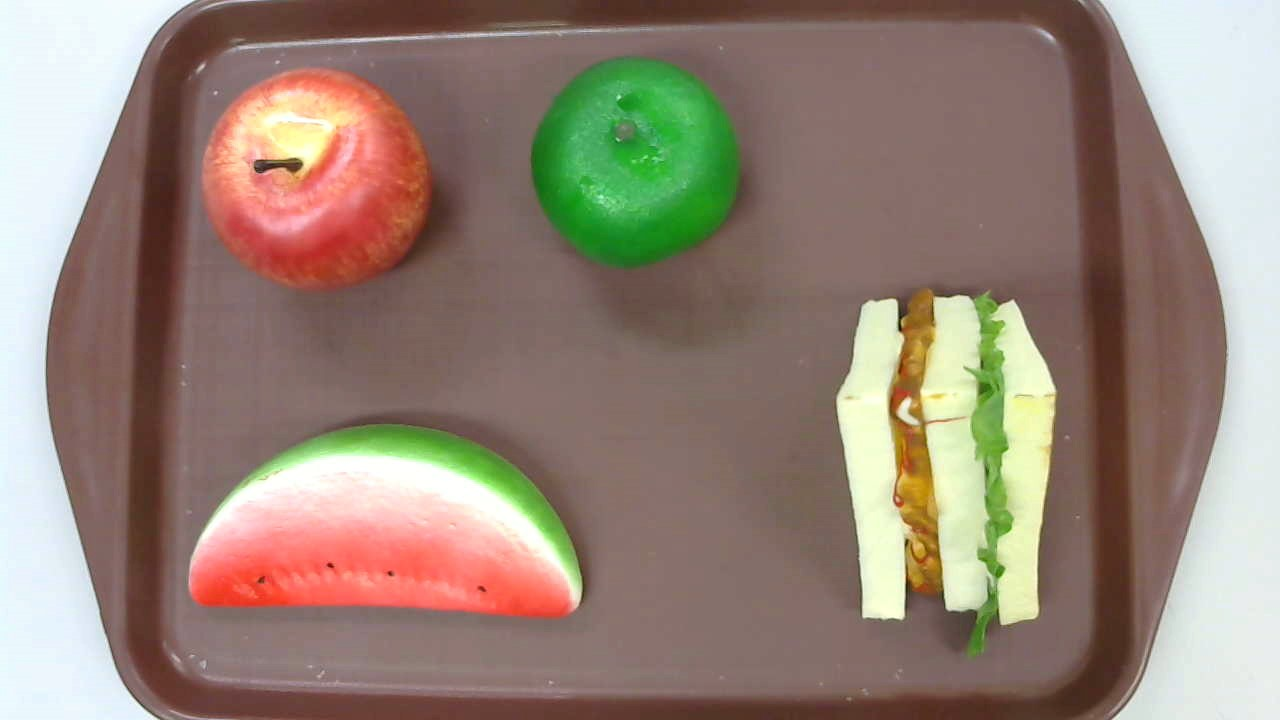green orange: (530, 58, 741, 271)
red apple: (201, 66, 432, 294)
sandwich: (835, 284, 1055, 652)
water melon: (188, 422, 584, 620)
